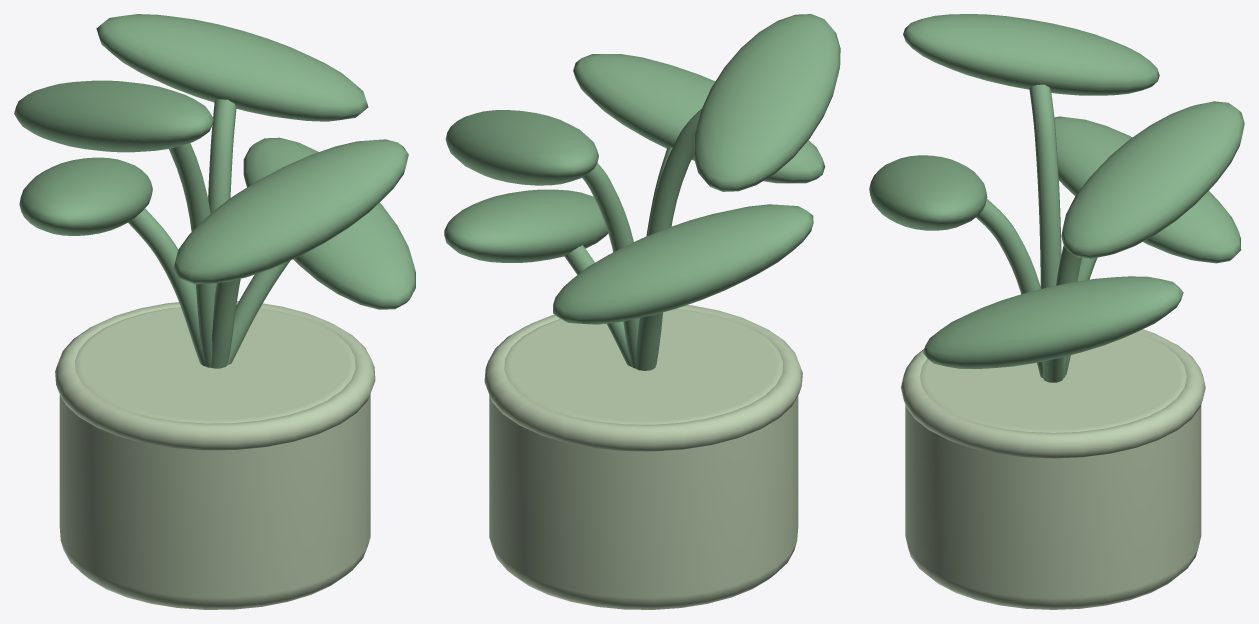
The model's file is japanesePlant.glb.
3 renders of one model, left to right at view 1: azimuth 30°, elevation 25°; view 2: azimuth 150°, elevation 25°; view 3: azimuth 270°, elevation 25°, orthographic. The views are drawn at different scales.
Visible parts, largest first — view 1: Ceramic planter, Leaf.002, Leaf.003, Pot rim, Leaf.004, Leaf, Leaf.001, Stem.004, Stem.001, Stem.003, Stem.002, Stem; view 2: Ceramic planter, Leaf.004, Leaf.001, Pot rim, Leaf.002, Leaf, Leaf.003, Stem.004, Stem.003, Stem.001, Stem; view 3: Ceramic planter, Leaf.003, Leaf, Leaf.004, Pot rim, Leaf.001, Leaf.002, Stem.004, Stem.002, Stem.003.
Boxes of the visible parts, x1,y1,x2,y2 form: Ceramic planter: (59, 307, 370, 609); Leaf.002: (173, 139, 408, 284); Leaf.003: (96, 14, 368, 121); Pot rim: (55, 301, 375, 450); Leaf.004: (14, 80, 213, 152); Leaf: (243, 137, 415, 309); Leaf.001: (19, 157, 152, 235); Stem.004: (169, 143, 216, 367); Stem.001: (128, 208, 205, 366); Stem.003: (208, 99, 236, 213); Stem.002: (211, 279, 240, 368); Stem: (227, 260, 290, 365); Ceramic planter: (489, 309, 798, 609); Leaf.004: (693, 14, 840, 191); Leaf.001: (553, 204, 813, 324); Pot rim: (484, 305, 802, 451); Leaf.002: (573, 54, 825, 183); Leaf: (444, 189, 608, 262); Leaf.003: (445, 110, 598, 185); Stem.004: (647, 109, 701, 364); Stem.003: (582, 163, 639, 368); Stem.001: (636, 312, 662, 370); Stem: (564, 245, 632, 366); Ceramic planter: (905, 332, 1201, 609); Leaf.003: (1061, 101, 1244, 258); Leaf: (923, 276, 1183, 368); Leaf.004: (903, 14, 1159, 95); Pot rim: (901, 329, 1205, 458); Leaf.001: (1054, 116, 1241, 263); Leaf.002: (869, 155, 987, 230); Stem.004: (1029, 84, 1061, 288); Stem.002: (976, 199, 1042, 377); Stem.003: (1056, 246, 1081, 377).
Size of the model in its own units: 0.8381 by 1.2 by 0.8376.
